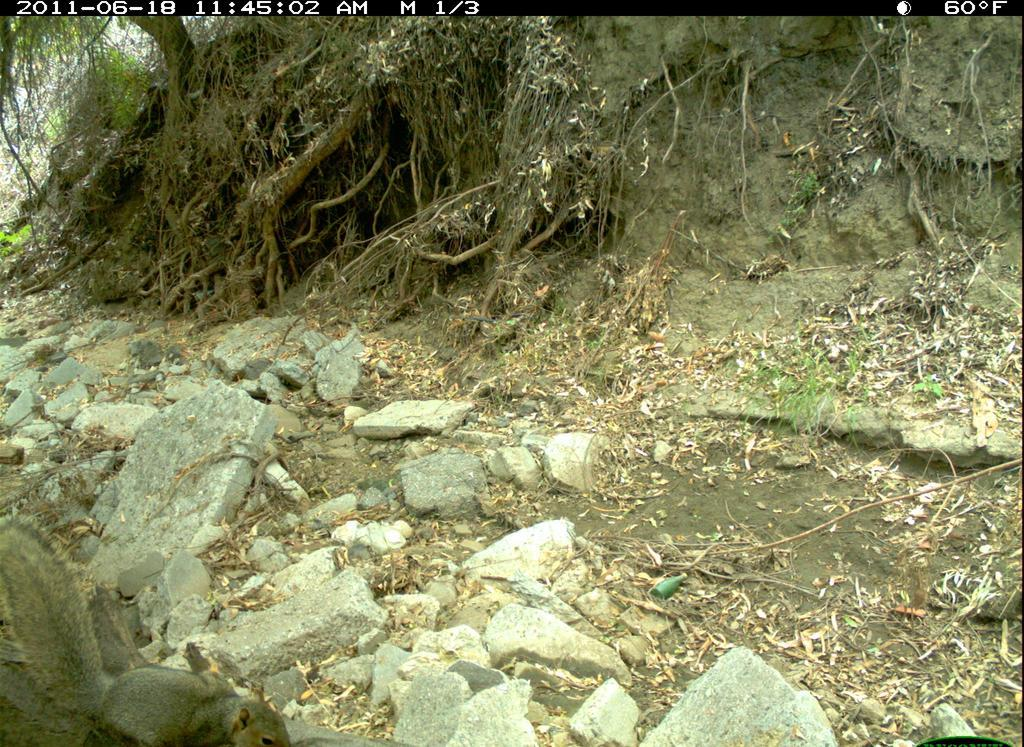squirrel: (1, 513, 300, 747)
